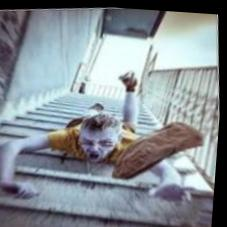Animal: (25, 133, 179, 227)
